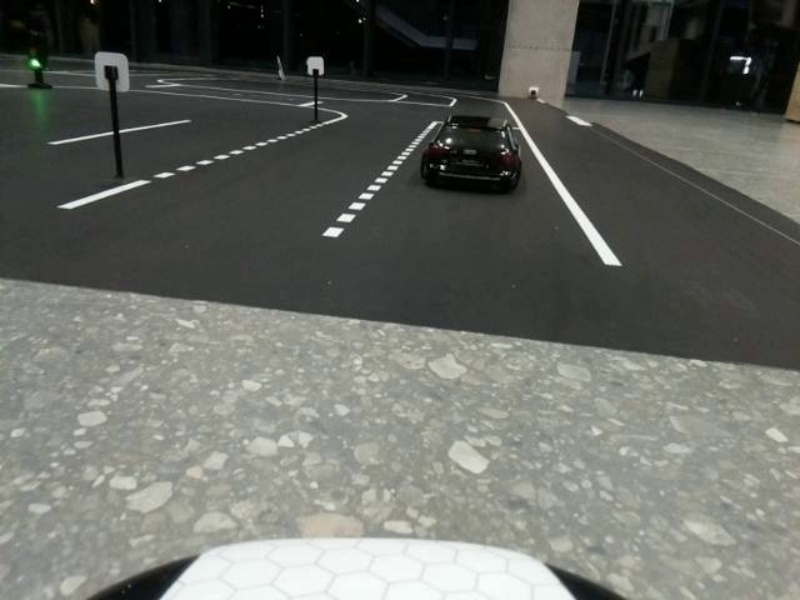car: (411, 110, 539, 203)
